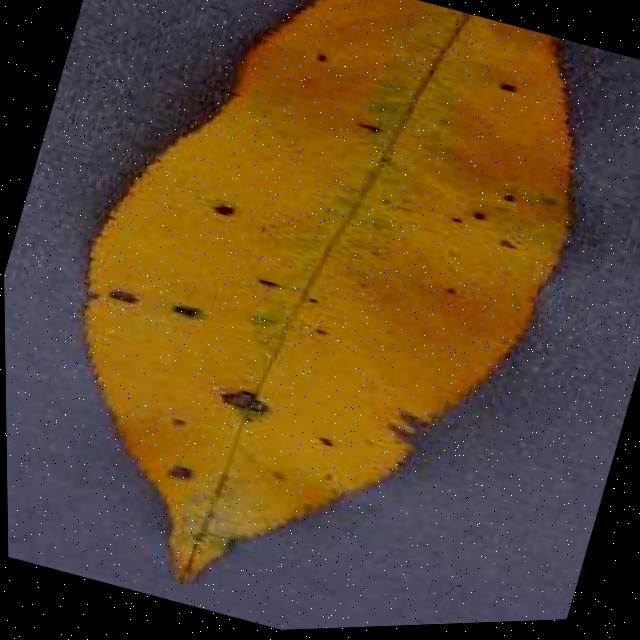Bacterial_spot: (427, 152, 543, 267), (201, 357, 294, 440), (77, 256, 155, 324), (286, 292, 350, 360), (144, 439, 209, 503), (414, 258, 470, 318), (479, 55, 535, 114), (160, 283, 219, 338), (238, 252, 293, 309), (198, 183, 247, 229), (343, 109, 388, 143), (304, 425, 341, 457), (311, 46, 338, 70)
